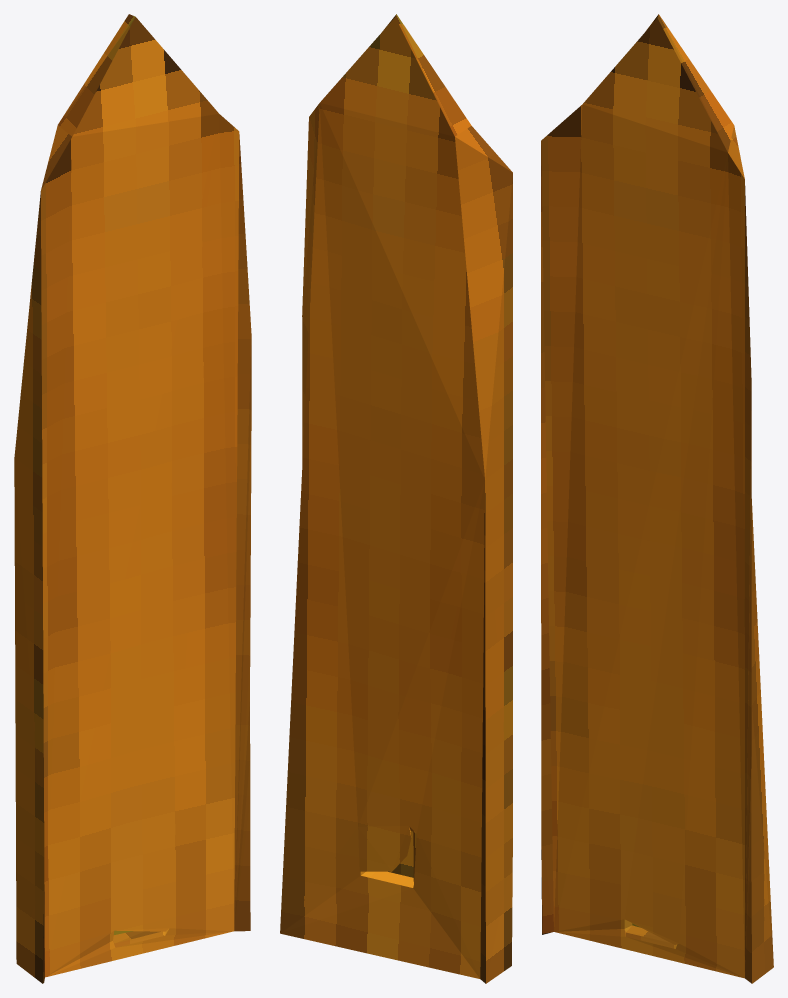
The model's file is fencebar.glb.
3 views of the same model, side by side, from view 1: azimuth 30°, elevation 25°; view 2: azimuth 150°, elevation 25°; view 3: azimuth 330°, elevation 25° (orthographic).
Visible parts, largest first — view 1: world; view 2: world; view 3: world.
Part boxes in pixels (x1,y1,x2,y2): world: (14,14,251,983); world: (280,14,512,983); world: (541,14,773,983).
Bounding box in the file's own units: 0.2362 × 1 × 0.0561.
Materials: 1 (1 with a texture image).
